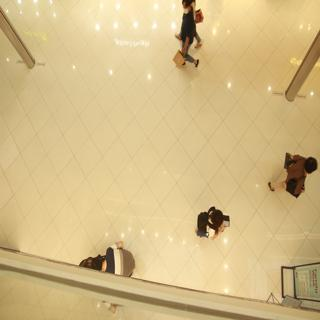person: (164, 1, 221, 76), (269, 145, 319, 206), (186, 202, 237, 248)
